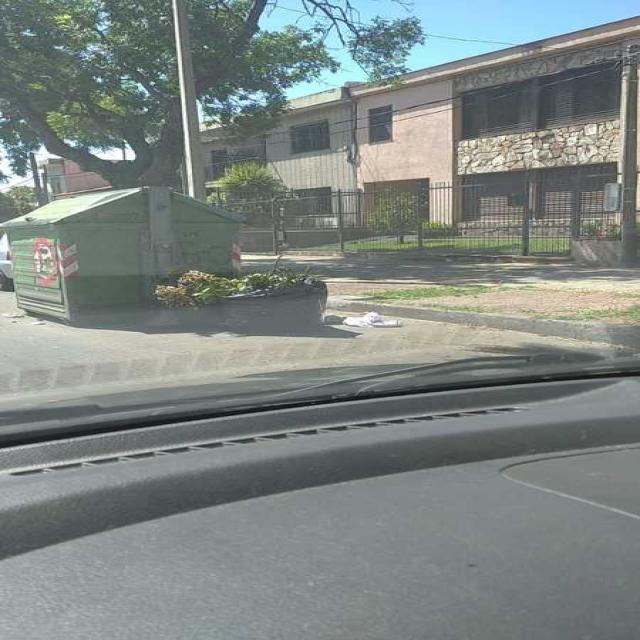garbage: (152, 258, 330, 337), (319, 303, 414, 335)
